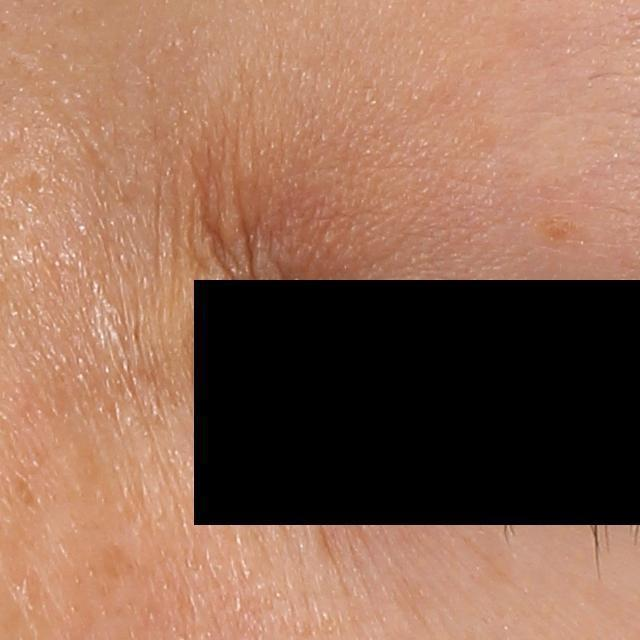melasma: (529, 214, 594, 249)
